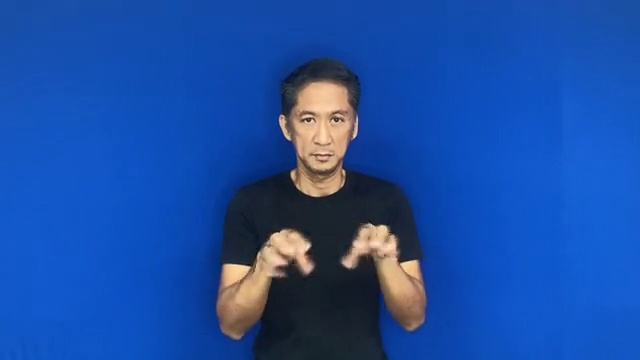egg: (249, 218, 407, 285)
